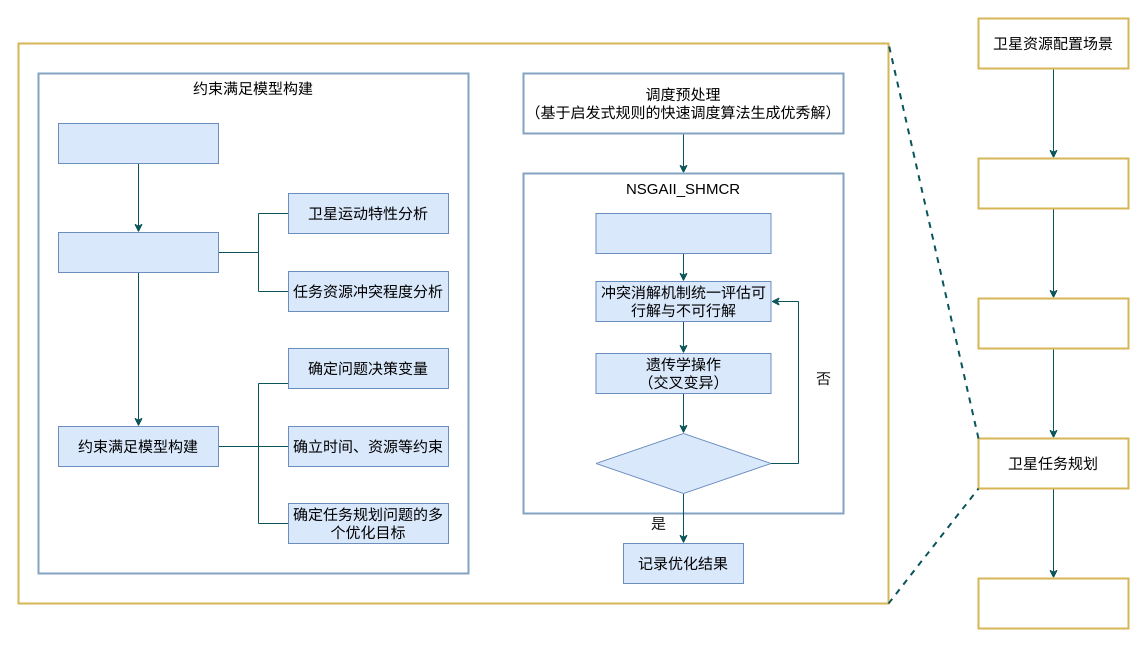
This 1146x646 diagram has some shape labels left out. Here are the shapes that lost their labels. From the top down, the centre of each, then its label:
At (138,143): "卫星任务规划问题描述".
At (1053,183): "资源冲突度分析".
At (138,252): "卫星与任务时空分布特征分析".
At (683,233): "初始化种群 （引入预处理的优秀解）".
At (1053,323): "任务优先级分析".
At (683,463): "是否终止".
At (1053,603): "任务规划性能评价".
